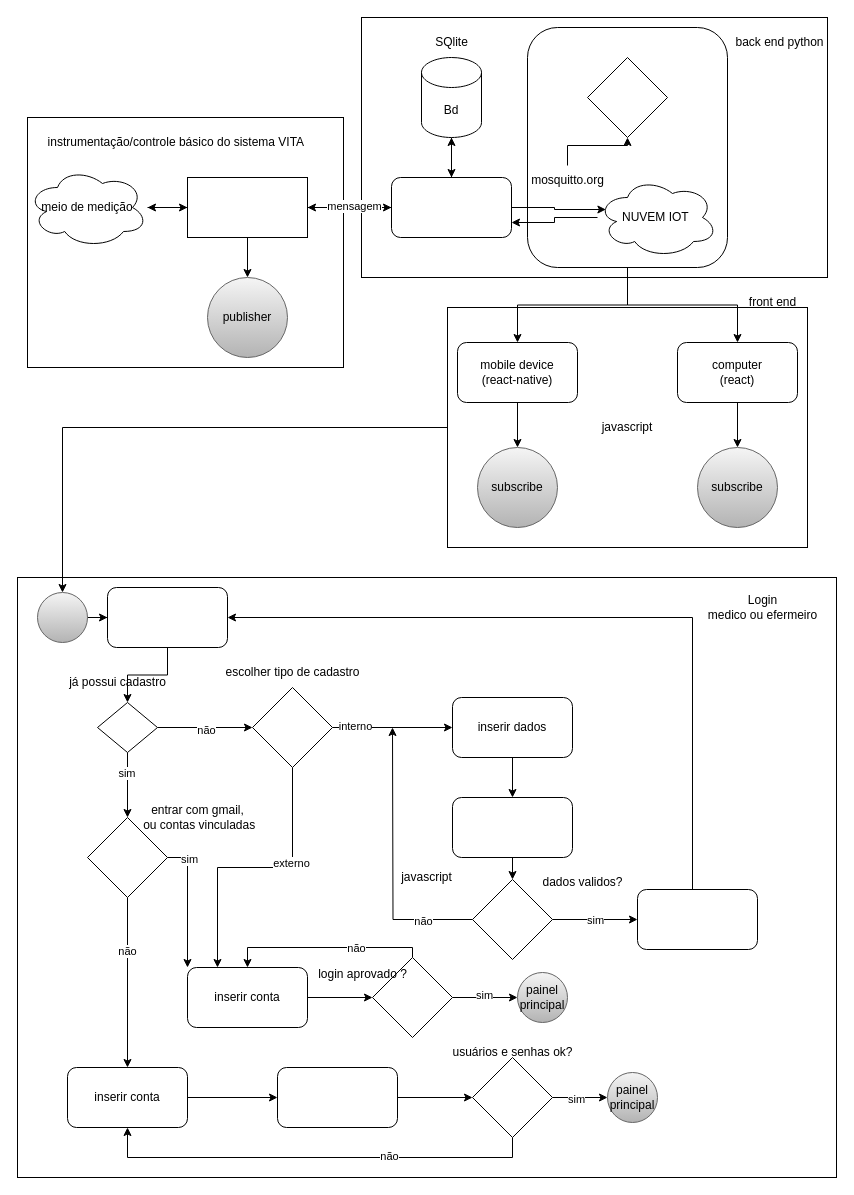
Some shapes in this 854 by 1195 pixel diagram are drawn without their labels. The centre of each missing label's shape, as x and y in pixels:
"conta cadastrada" goes at (697,919).
"MQTT(Broker)" goes at (451,207).
"origem" goes at (62,617).
"sistema de medição" goes at (247,207).
"tela de login" goes at (167,617).
"validar dados" goes at (512,827).
"verificar dados" goes at (337,1097).
"verificação do host" goes at (627,97).
